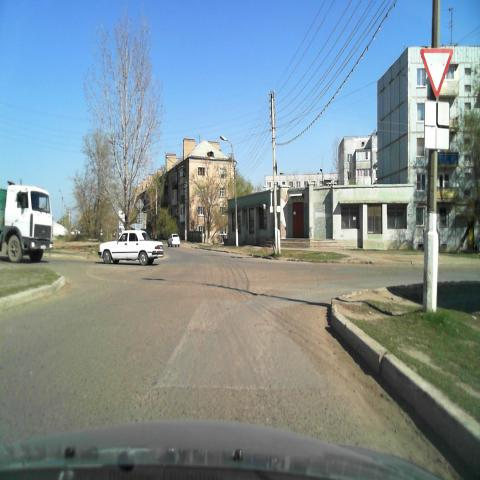8_13: (425, 98, 451, 150)
